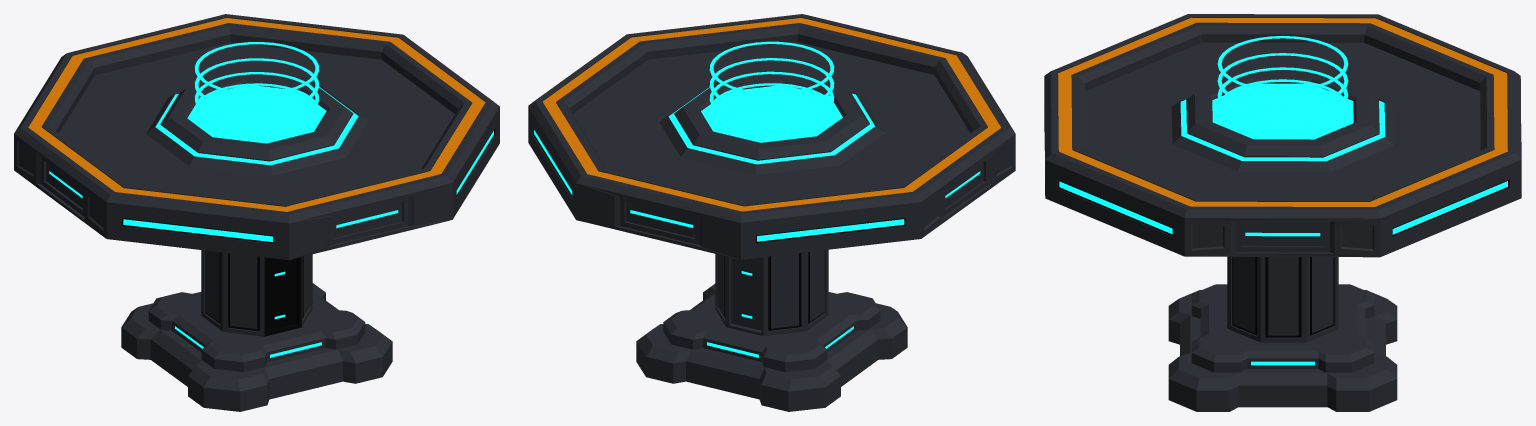
Rendered from map_table.glb.
3 renders of one model, left to right at view 1: azimuth 30°, elevation 25°; view 2: azimuth 150°, elevation 25°; view 3: azimuth 270°, elevation 25°, orthographic. The views are drawn at different scales.
Parts seen in each view (by area): view 1: SM_Holo_Base; view 2: SM_Holo_Base; view 3: SM_Holo_Base.
Boxes of the visible parts, box(x1,y1,x2,y2) form: SM_Holo_Base: box(14, 14, 499, 411); SM_Holo_Base: box(528, 14, 1015, 411); SM_Holo_Base: box(1044, 14, 1521, 411).
Bounding box in the file's own units: 1.46 × 1.01 × 1.46.
